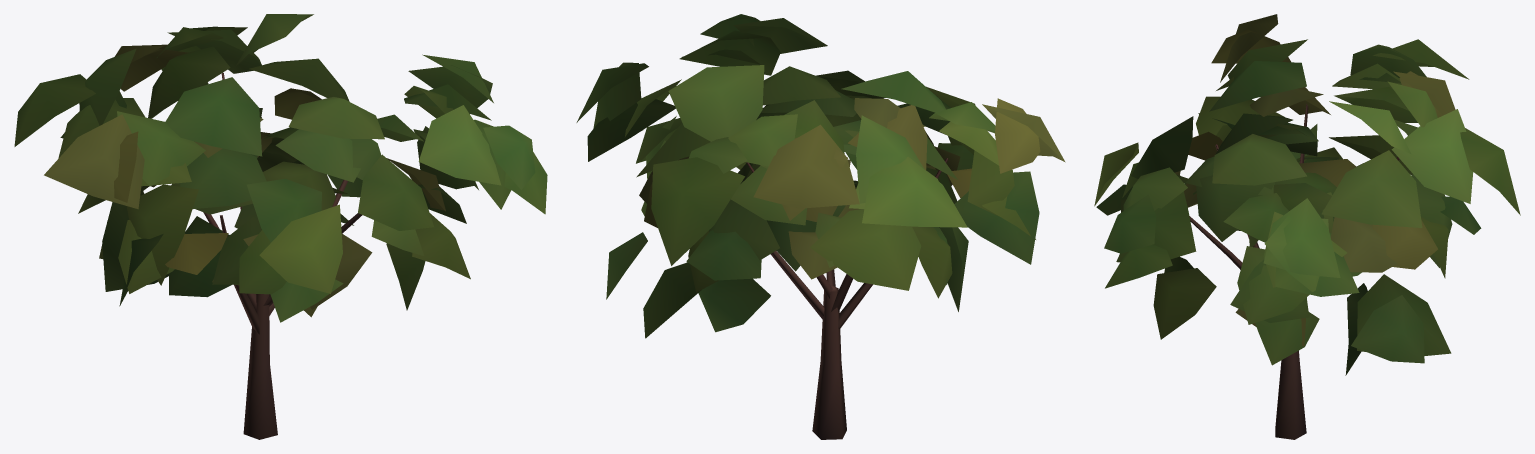
Rendered from cherry-a.lod2.glb.
3 views of the same model, side by side, from view 1: azimuth 30°, elevation 25°; view 2: azimuth 150°, elevation 25°; view 3: azimuth 270°, elevation 25° (orthographic). The views are drawn at different scales.
Bounding box in the file's own units: 6.37 × 4.96 × 5.42.
